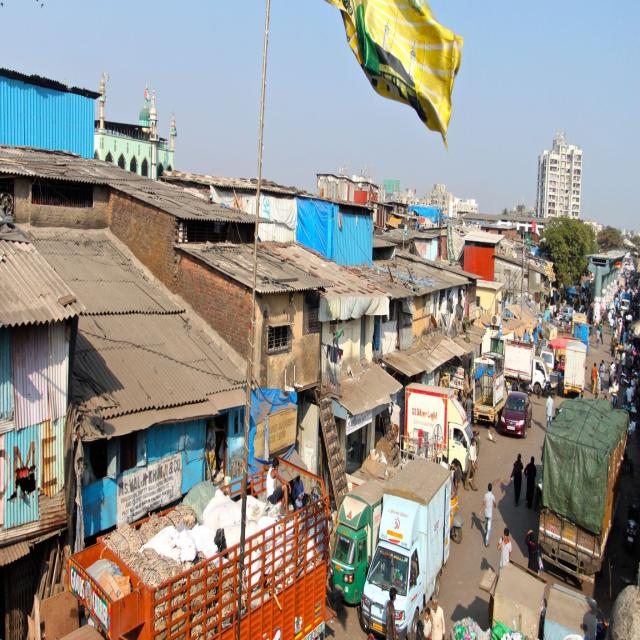body: (548, 283, 594, 323), (266, 456, 292, 517), (205, 418, 226, 483), (606, 283, 640, 321), (478, 482, 496, 548), (624, 381, 640, 436), (525, 529, 544, 574), (509, 452, 524, 508), (496, 527, 512, 577), (464, 436, 478, 492), (384, 586, 398, 640), (609, 321, 636, 348), (430, 594, 446, 639), (524, 455, 537, 510), (292, 474, 304, 532), (469, 510, 486, 548), (480, 556, 498, 586), (623, 438, 635, 480), (464, 392, 475, 426), (545, 391, 553, 436), (422, 606, 432, 640), (438, 452, 452, 473), (453, 426, 465, 449), (452, 458, 459, 494), (532, 416, 546, 434), (611, 380, 619, 409), (620, 266, 633, 283), (396, 567, 406, 589), (599, 359, 605, 394), (456, 388, 466, 409), (591, 362, 597, 395), (608, 360, 615, 387), (620, 349, 627, 375), (630, 348, 640, 365), (626, 353, 632, 377), (353, 548, 362, 564), (559, 323, 572, 334), (615, 348, 620, 375), (442, 373, 449, 390), (591, 321, 596, 344), (595, 326, 600, 348), (598, 362, 602, 385), (630, 371, 639, 381), (600, 322, 604, 344), (587, 323, 593, 337), (593, 314, 598, 329), (600, 307, 604, 325), (610, 348, 618, 357), (579, 389, 585, 399), (612, 375, 617, 386), (558, 355, 562, 366), (594, 392, 598, 398), (604, 395, 607, 401), (636, 344, 639, 348)
